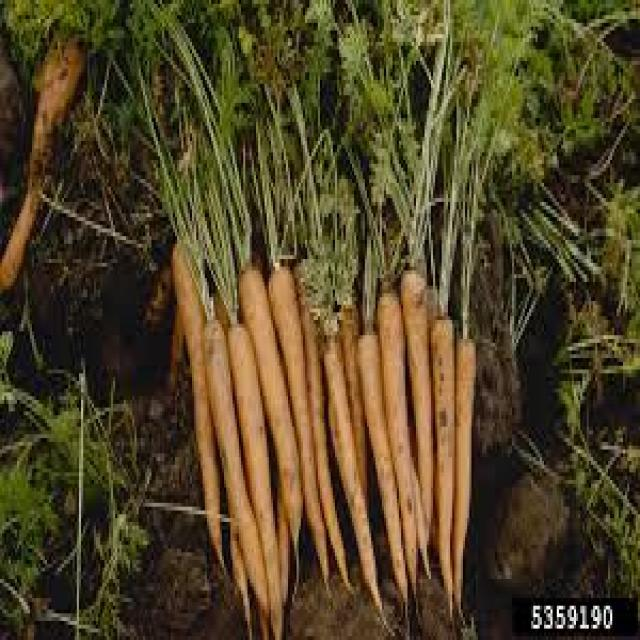Stale_Carrot: (178, 275, 477, 596)
